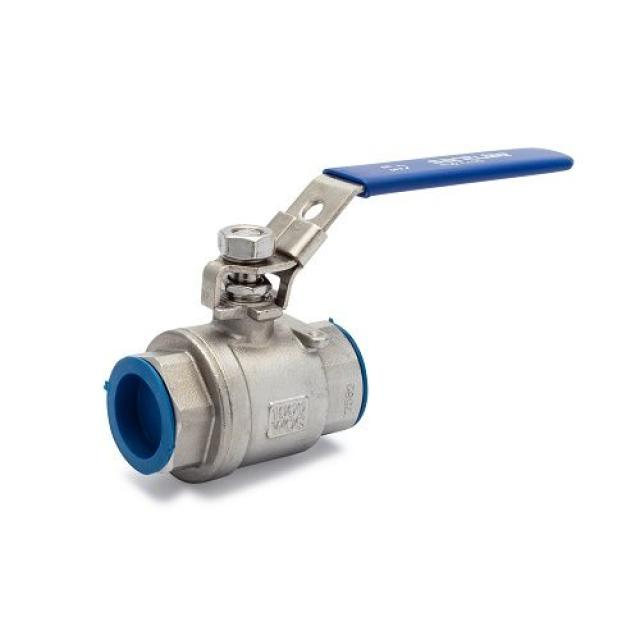Lever Handle Valve Threaded: (90, 127, 606, 327)
